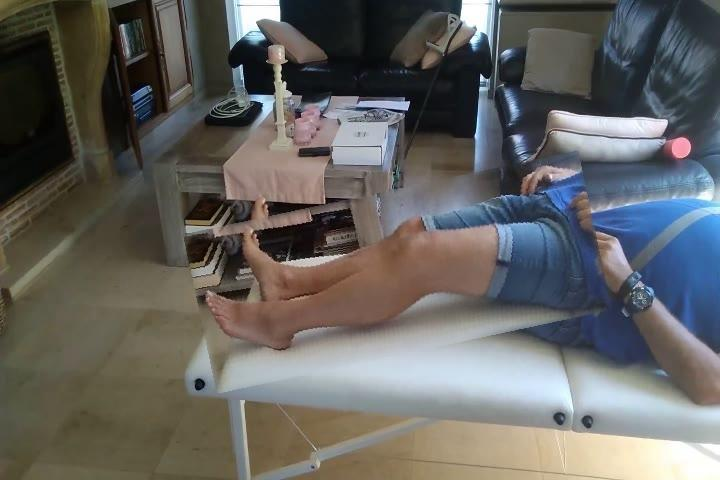lower_body: (191, 171, 607, 374)
